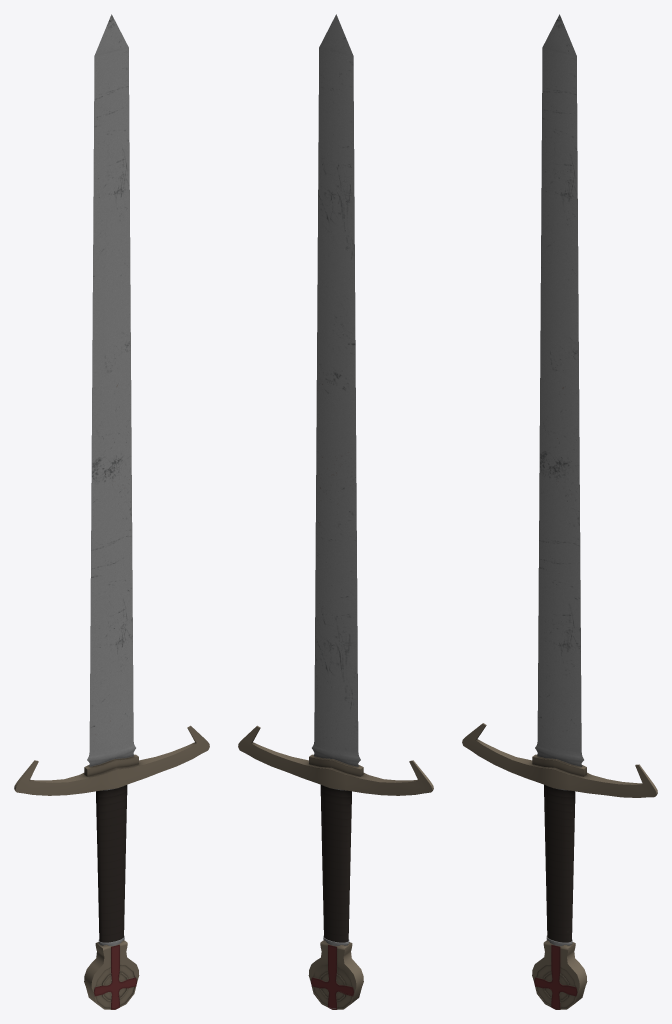
File: Sword 1.fbx
3 renders of one model, left to right at view 1: azimuth 30°, elevation 25°; view 2: azimuth 150°, elevation 25°; view 3: azimuth 330°, elevation 25°, orthographic.
Visible parts, largest first — view 1: Sword_1; view 2: Sword_1; view 3: Sword_1.
Part boxes in pixels (x1,y1,x2,y2): Sword_1: [14, 14, 209, 1009]; Sword_1: [238, 14, 433, 1009]; Sword_1: [462, 14, 657, 1009].
Size of the model in its own units: 28.53 by 140 by 3.17.
Materials: 1 (1 with a texture image).
